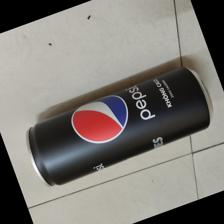Pepsi: (26, 66, 217, 194)
